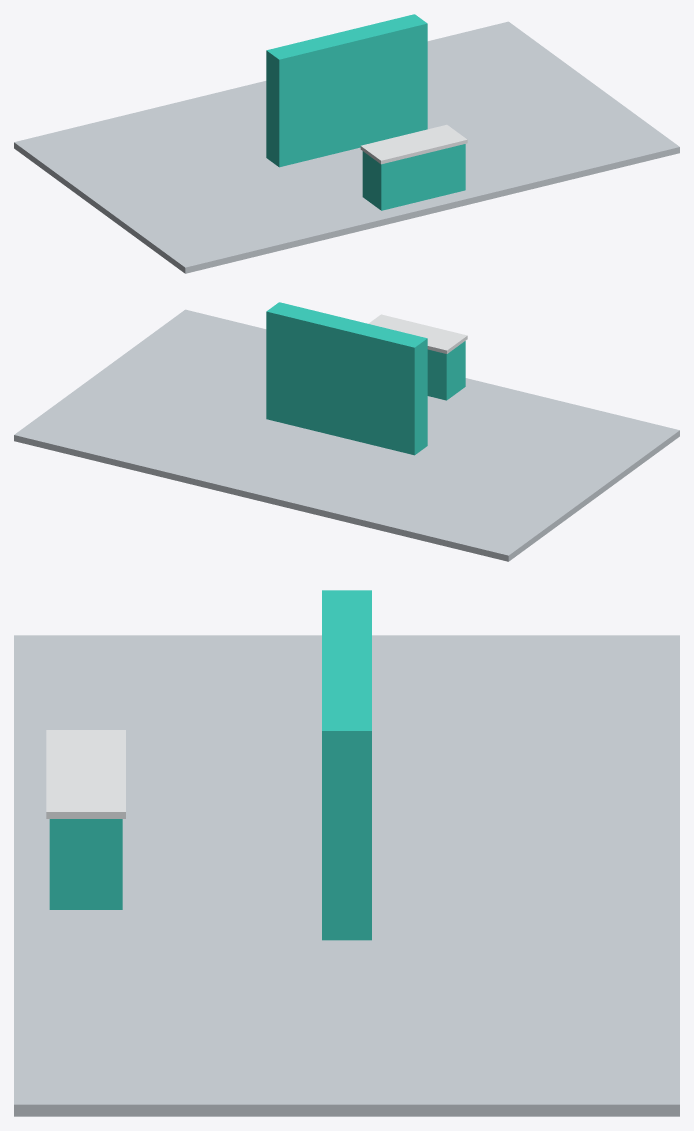
3 views of the same model, one above another, from view 1: azimuth 30°, elevation 25°; view 2: azimuth 150°, elevation 25°; view 3: azimuth 270°, elevation 25° (orthographic). The views are drawn at different scales.
Parts seen in each view (by area): view 1: Exhibition Booth Concept; view 2: Exhibition Booth Concept; view 3: Exhibition Booth Concept.
Boxes of the visible parts, x1,y1,x2,y2 form: Exhibition Booth Concept: (14,14,679,273); Exhibition Booth Concept: (14,302,679,561); Exhibition Booth Concept: (14,590,679,1116).
Size of the model in its own units: 10 by 2.2 by 6.
